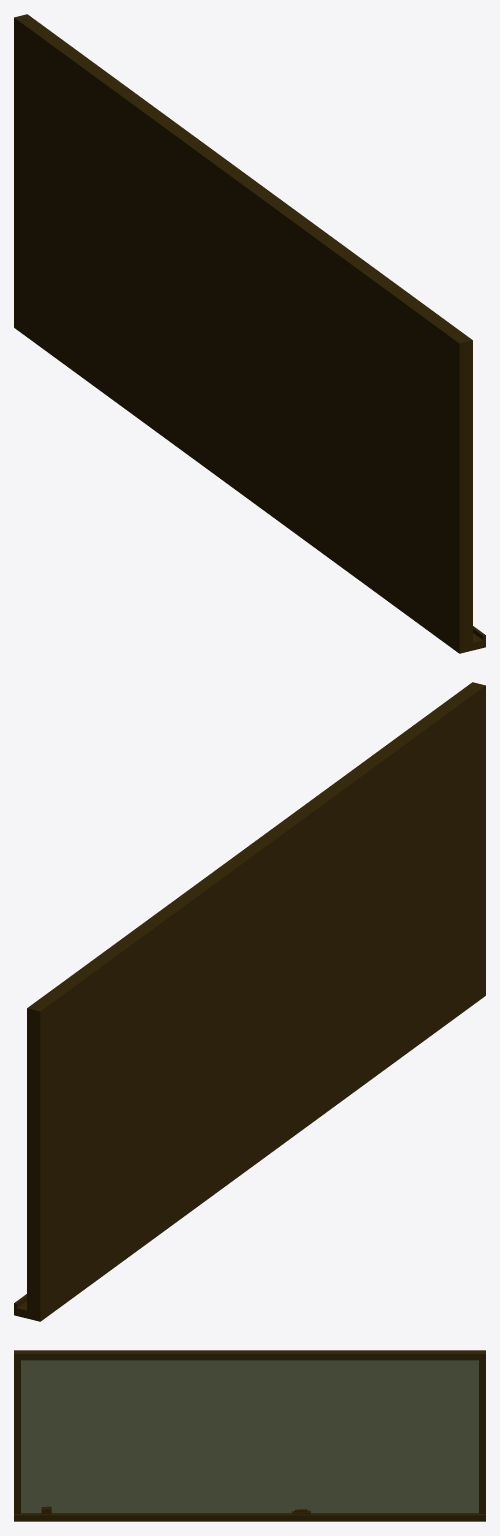
File: BlackBoard.fbx
3 views of the same model, one above another, from view 1: azimuth 30°, elevation 25°; view 2: azimuth 150°, elevation 25°; view 3: azimuth 270°, elevation 25° (orthographic). The views are drawn at different scales.
Parts seen in each view (by area): view 1: Board; view 2: Board; view 3: Board.
Part boxes in pixels (x1,y1,x2,y2): Board: (14, 14, 485, 653); Board: (14, 682, 485, 1321); Board: (14, 1350, 485, 1521).
Bounding box in the file's own units: 49.91 × 559 × 1454.
Materials: 1 (1 with a texture image).
